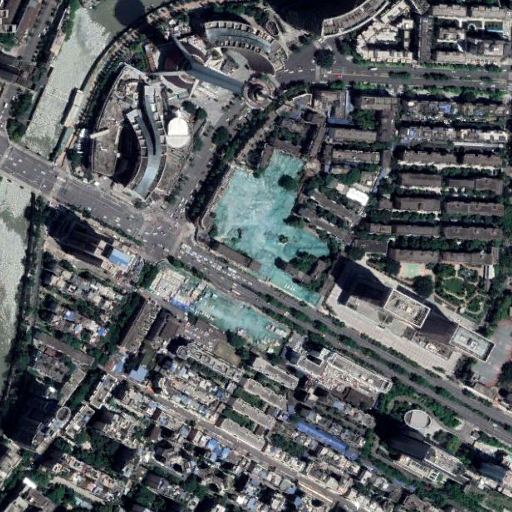cw: (209, 150, 341, 305), (197, 288, 284, 352)
